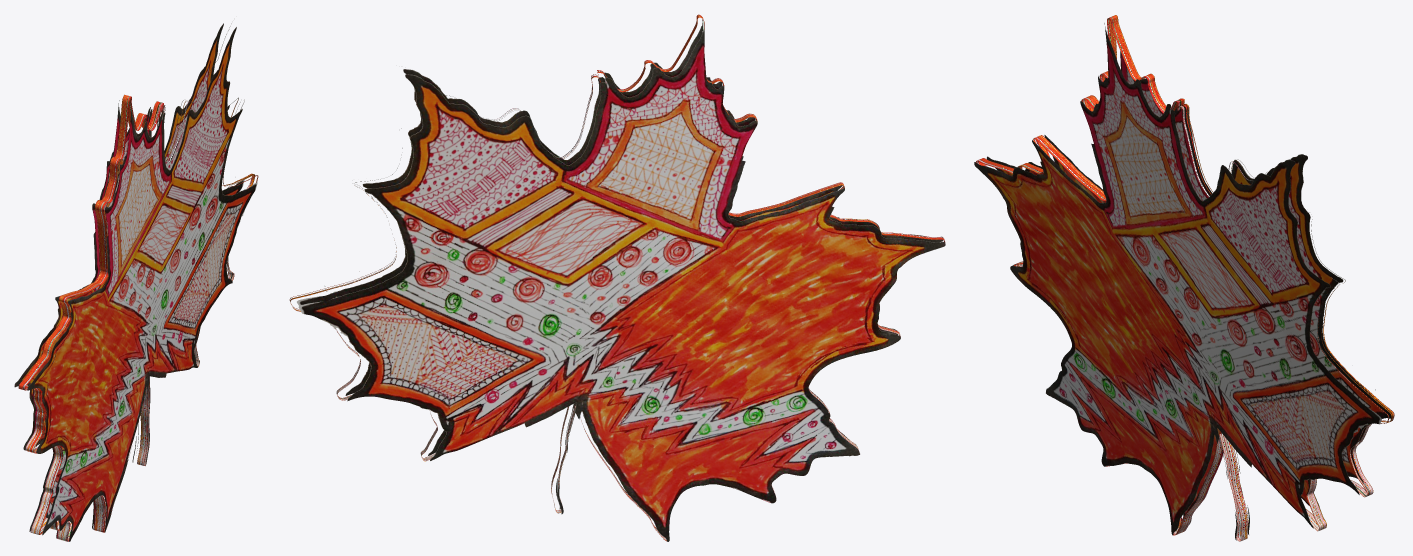
The model's file is leaf1.fbx.
The picture shows the model from 3 angles, left to right: view 1: azimuth 30°, elevation 25°; view 2: azimuth 150°, elevation 25°; view 3: azimuth 270°, elevation 25°; orthographic projection. The views are drawn at different scales.
Parts seen in each view (by area): view 1: leaf6; view 2: leaf6; view 3: leaf6.
Part boxes in pixels (x1,y1,x2,y2): leaf6: (14, 23, 258, 541); leaf6: (289, 14, 945, 541); leaf6: (974, 15, 1394, 541).
Size of the model in its own units: 0.273 by 0.2824 by 0.2101.
1 material, 1 textured.
